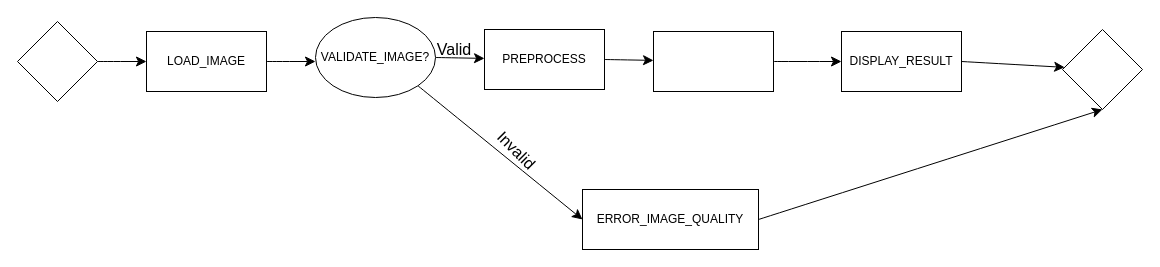
Some shapes in this 1160 by 267 pixel diagram are drawn without their labels. The centre of each missing label's shape, as x and y in pixels:
"IDLE" goes at point 57,61.
"RN_INTERFERENCE" goes at point 713,61.
"STOP" goes at point 1102,69.
